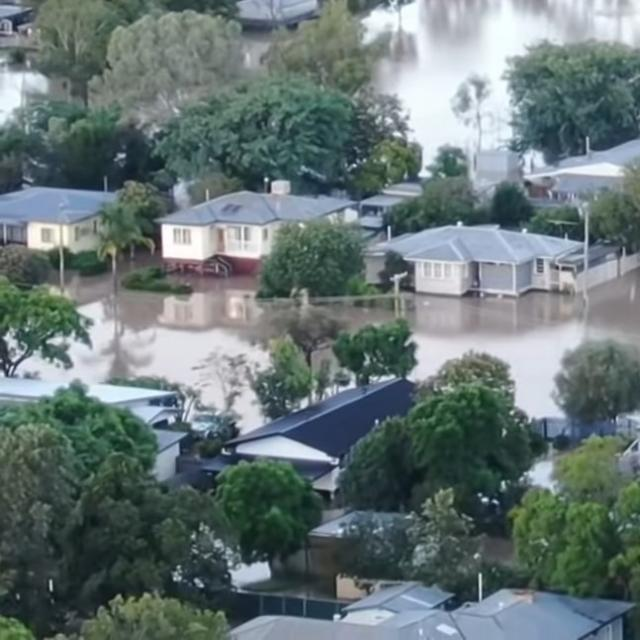flood: (365, 0, 640, 164), (19, 276, 297, 408), (402, 270, 640, 418), (0, 65, 48, 124), (316, 298, 394, 330), (242, 30, 273, 73), (230, 565, 270, 590)
house: (392, 220, 580, 312), (162, 191, 270, 261), (9, 188, 98, 256), (232, 429, 336, 471), (151, 398, 191, 469)
